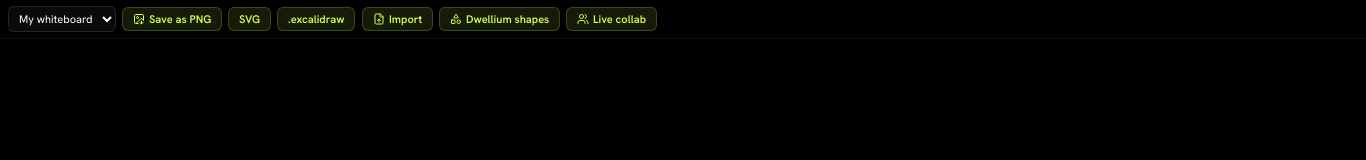
Scenario: collab (vendored room client — env-gated states) › unconfigured: the Live collab panel names the env var + runbook (honest state)
The image size is (1366, 160).
Click the button "Live collab".
click(612, 19)  # box [566,7,658,31]
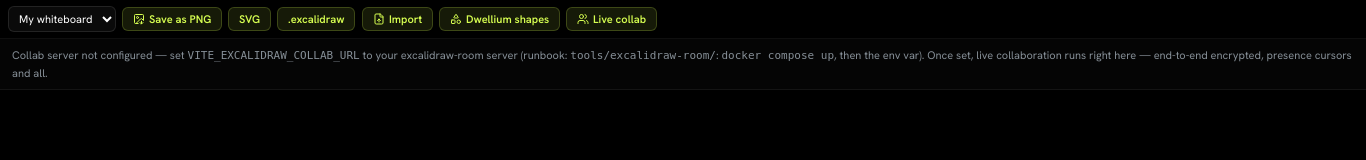
Now the element that starts with "Collab server not configured — set" is shown, box [12,48,188,62]
Now the element that starts with "Collab server not configured — set" shows "VITE_EXCALIDRAW_COLLAB_URL", box [188,49,360,62]
Now the element that starts with "Collab server not configured — set" shows "tools/excalidraw-room/", box [570,49,716,62]
